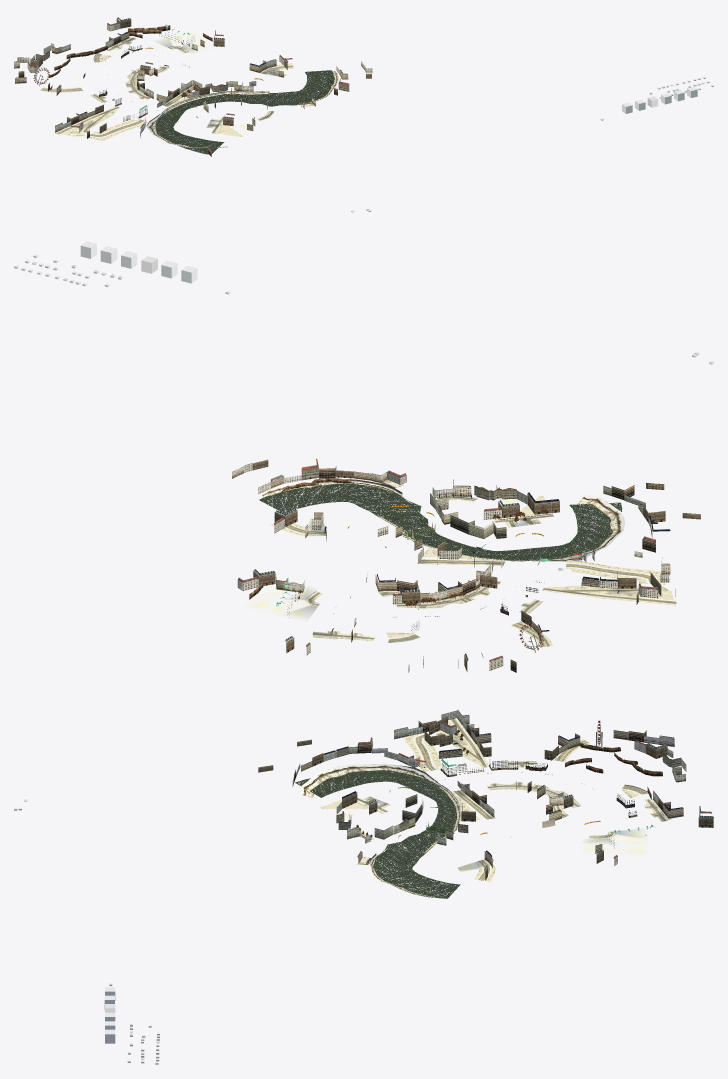
Rendered from track-EU_C1_V1_env.glb.
3 views of the same model, one above another, from view 1: azimuth 30°, elevation 25°; view 2: azimuth 150°, elevation 25°; view 3: azimuth 270°, elevation 25° (orthographic). The views are drawn at different scales.
Parts seen in each view (by area): view 1: EU_C1_V1_env; view 2: EU_C1_V1_env; view 3: EU_C1_V1_env.
Boxes of the visible parts, <box> form: EU_C1_V1_env: <box>14,17,713,212</box>; EU_C1_V1_env: <box>14,241,713,672</box>; EU_C1_V1_env: <box>14,710,713,1064</box>.
Bounding box in the file's own units: 4149 × 144 × 3469.
Materials: 30 (28 with a texture image).
